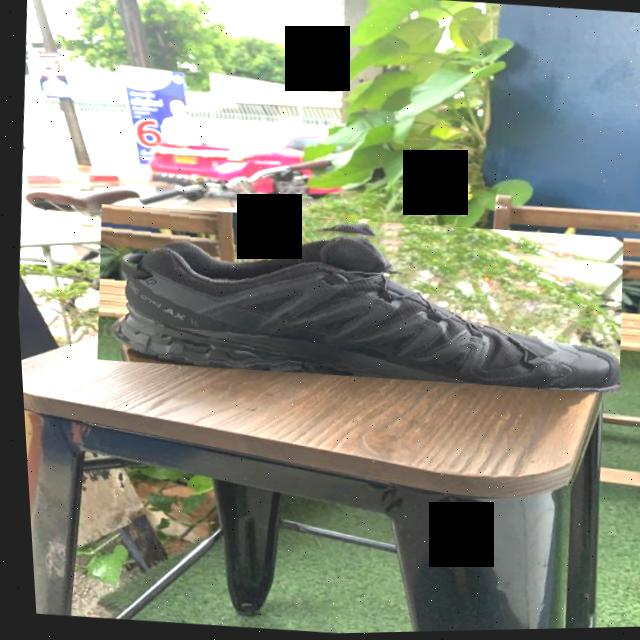shoe: (85, 195, 627, 405)
